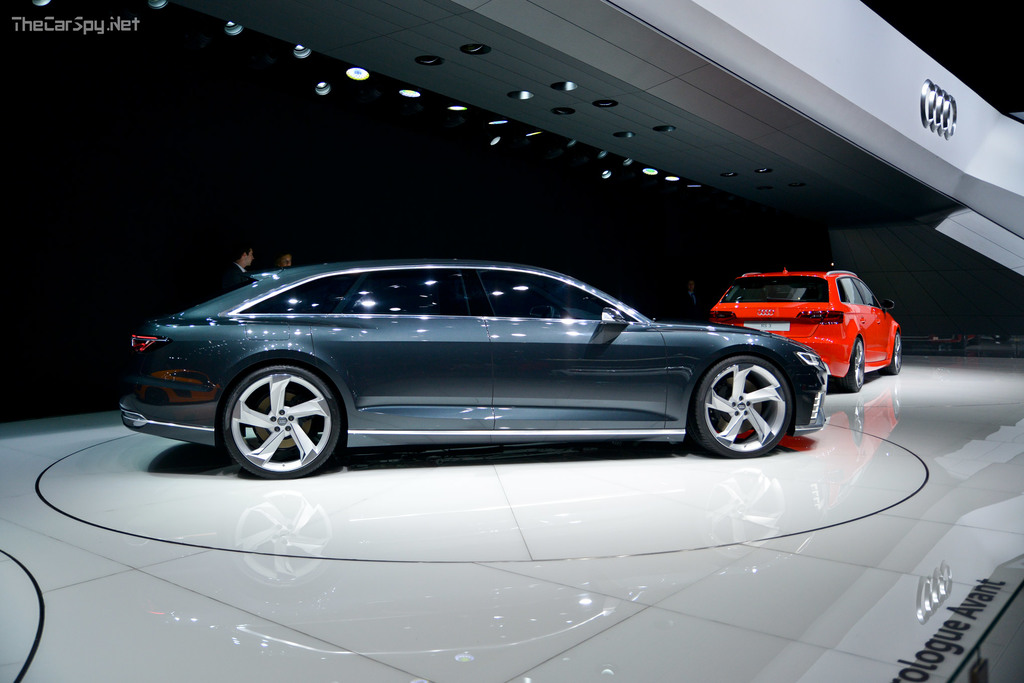Car: (121, 256, 831, 483), (703, 264, 902, 394)
